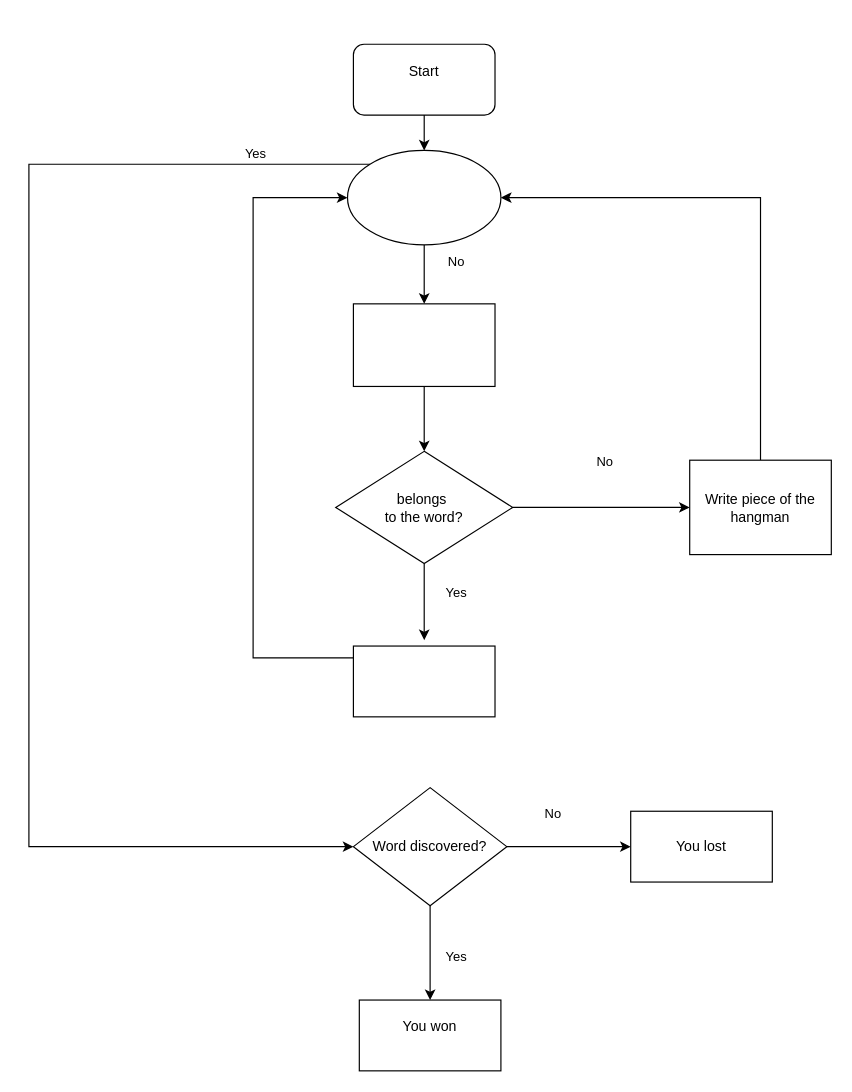
Some shapes in this 852 by 1092 pixel diagram are drawn without their labels. The shapes that lost their labels are listed below. From the top down, each one's centre as x and y in pixels, then its label:
At pixel 423 197: "word discovered or hangman full ?".
At pixel 423 344: "Digit one letter".
At pixel 423 681: "Write letter".
